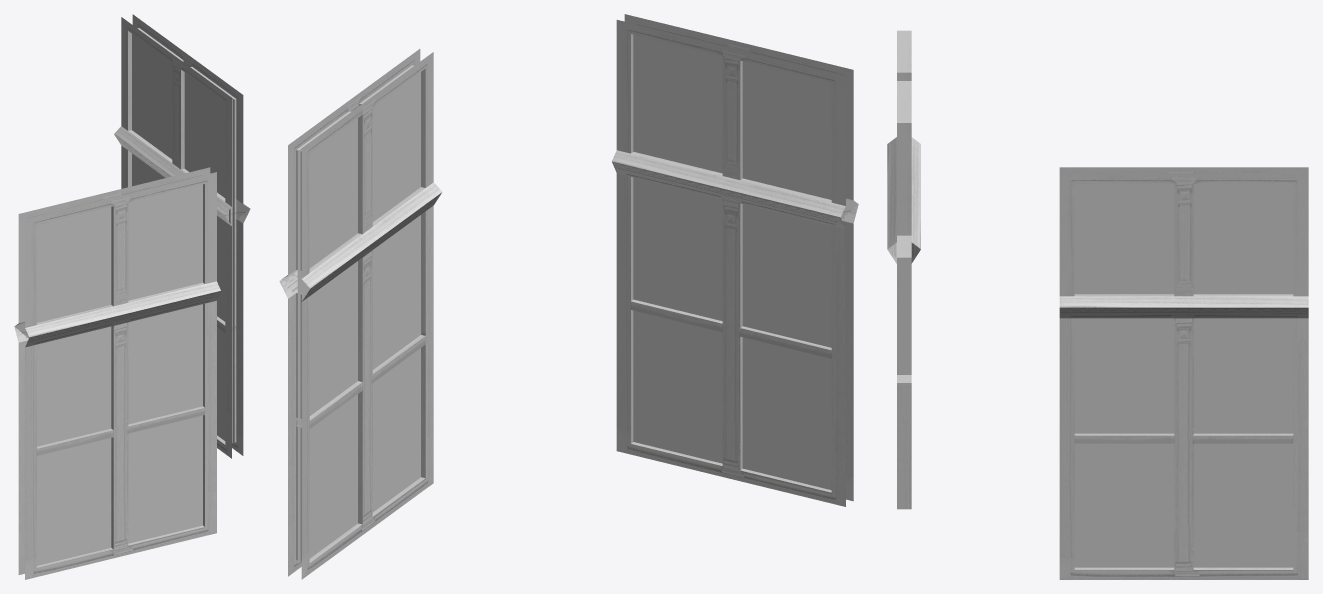
The model's file is WindowCorner1A.fbx.
The picture shows the model from 3 angles, left to right: view 1: azimuth 30°, elevation 25°; view 2: azimuth 150°, elevation 25°; view 3: azimuth 270°, elevation 25°; orthographic projection. The views are drawn at different scales.
Visible parts, largest first — view 1: WindowCorner1A; view 2: WindowCorner1A; view 3: WindowCorner1A.
Part boxes in pixels (box(x1,y1,x2,y2)): WindowCorner1A: box(14, 14, 250, 579); WindowCorner1A: box(279, 14, 858, 579); WindowCorner1A: box(887, 30, 1308, 579).
Size of the model in its own units: 155 by 180 by 169.
